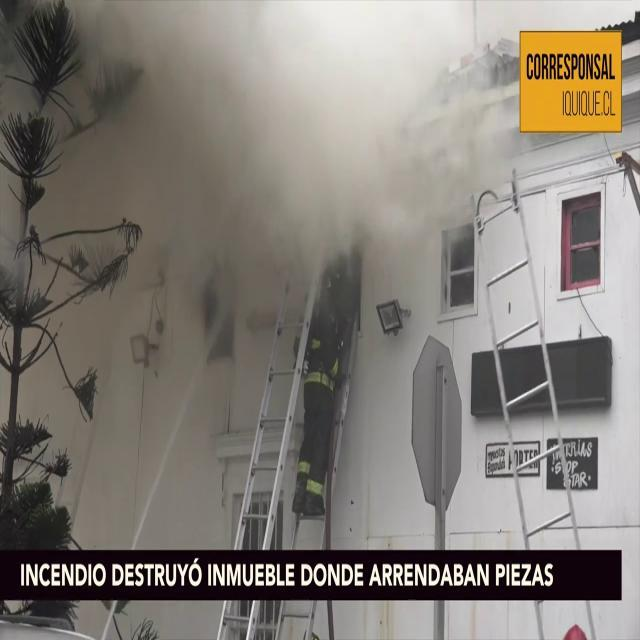Smoke: (9, 0, 483, 303)
